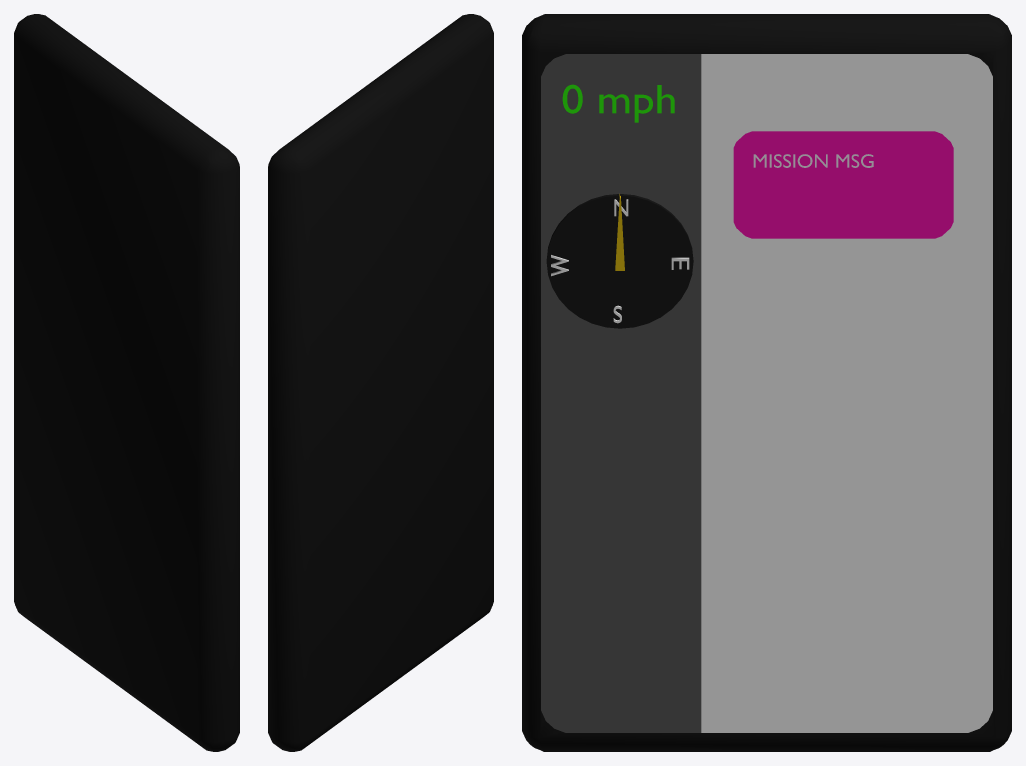
The model's file is hudPhone_rounded.fbx.
3 renders of one model, left to right at view 1: azimuth 30°, elevation 25°; view 2: azimuth 150°, elevation 25°; view 3: azimuth 270°, elevation 25°, orthographic. The views are drawn at different scales.
Parts seen in each view (by area): view 1: phone; view 2: phone; view 3: phone, msgbox, compass, mph.
Part boxes in pixels (bbox=[...]): phone: bbox=[14, 14, 239, 751]; phone: bbox=[268, 14, 493, 751]; phone: bbox=[522, 14, 1011, 751]; msgbox: bbox=[733, 131, 953, 238]; compass: bbox=[546, 194, 693, 328]; mph: bbox=[562, 84, 674, 122].
Size of the model in its own units: 44.7 by 551 by 333.
